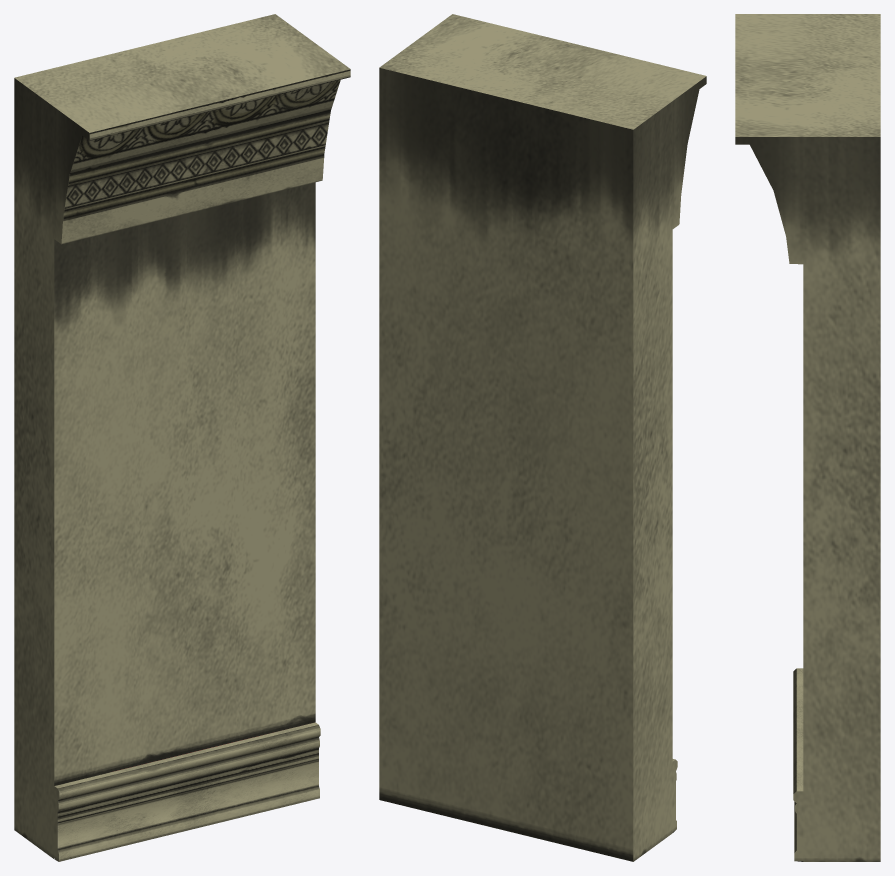
Rendered from Wall1.FBX.
3 views of the same model, side by side, from view 1: azimuth 30°, elevation 25°; view 2: azimuth 150°, elevation 25°; view 3: azimuth 270°, elevation 25° (orthographic). The views are drawn at different scales.
Visible parts, largest first — view 1: Object017; view 2: Object017; view 3: Object017.
Part boxes in pixels (x1,y1,x2,y2): Object017: [14, 14, 350, 861]; Object017: [379, 14, 706, 861]; Object017: [735, 14, 880, 861].
Bounding box in the file's own units: 25 × 68.8 × 12.5.
